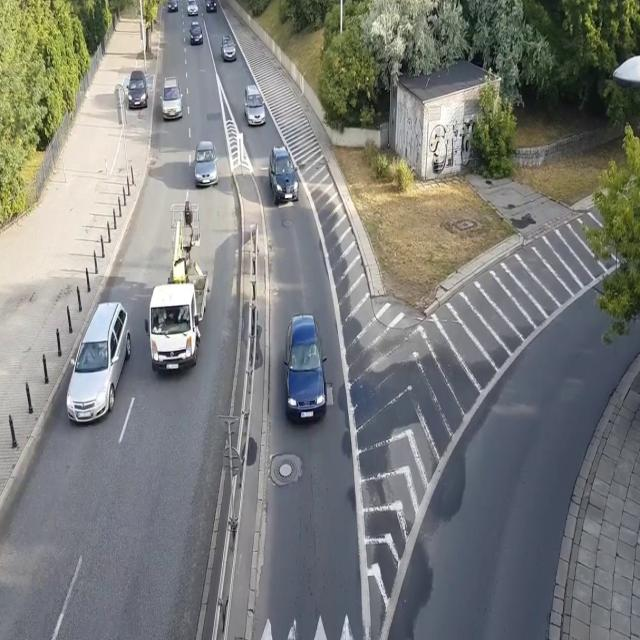car: (65, 300, 132, 428), (282, 312, 328, 425), (268, 144, 299, 204), (193, 140, 219, 188), (126, 70, 149, 111), (220, 34, 237, 62), (189, 21, 203, 46), (187, 0, 198, 16), (205, 0, 217, 13), (166, 0, 178, 12)
truck: (143, 199, 211, 373)
van: (160, 76, 183, 122), (244, 84, 266, 126)
